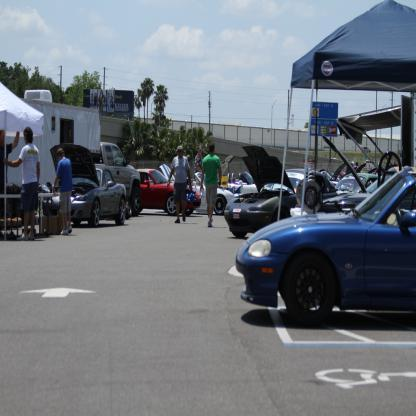car: (234, 166, 416, 326), (36, 142, 127, 230), (223, 146, 299, 241), (319, 136, 403, 212), (137, 166, 198, 218), (186, 170, 236, 216)
